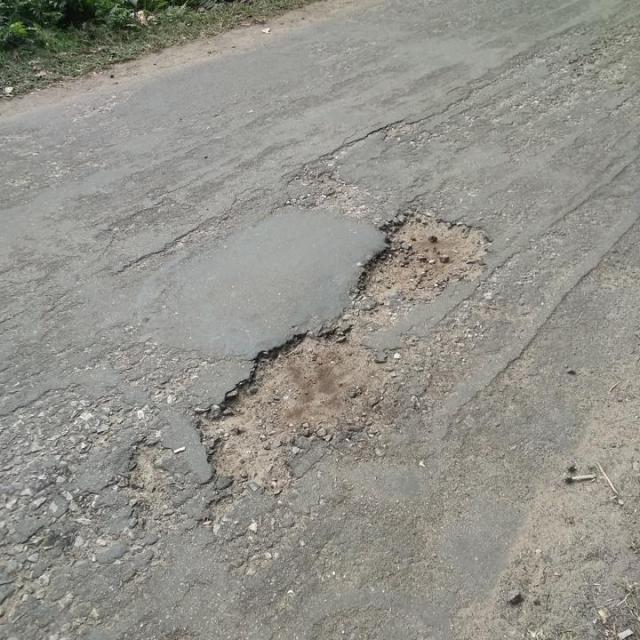Pothole: (199, 328, 402, 487), (348, 205, 501, 314), (126, 443, 177, 496)
